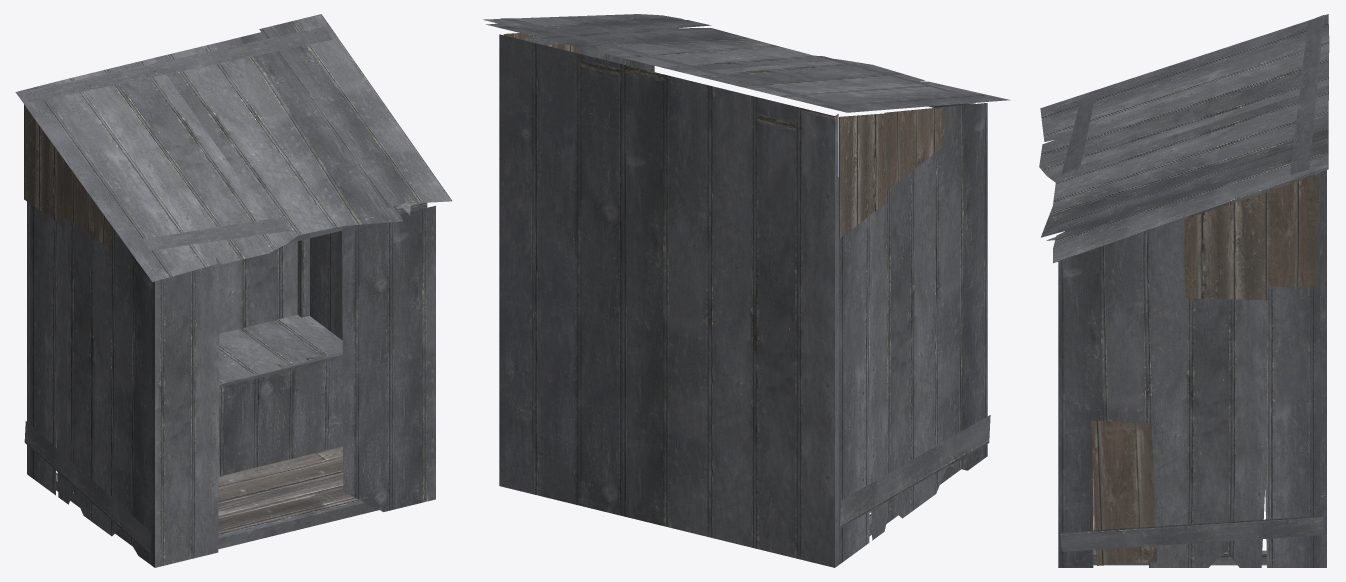
Rendered from Building_LinjgdJz005_lod2.glb.
The picture shows the model from 3 angles, left to right: view 1: azimuth 30°, elevation 25°; view 2: azimuth 150°, elevation 25°; view 3: azimuth 270°, elevation 25°; orthographic projection. The views are drawn at different scales.
Parts seen in each view (by area): view 1: bmsl_linjgd_jz005_lod2; view 2: bmsl_linjgd_jz005_lod2; view 3: bmsl_linjgd_jz005_lod2.
Boxes of the visible parts, box(x1,y1,x2,y2) form: bmsl_linjgd_jz005_lod2: box(15, 14, 452, 567); bmsl_linjgd_jz005_lod2: box(483, 14, 1010, 567); bmsl_linjgd_jz005_lod2: box(1039, 14, 1329, 567).
Bounding box in the file's own units: 3.12 × 3.78 × 2.46.
1 material, 1 textured.
